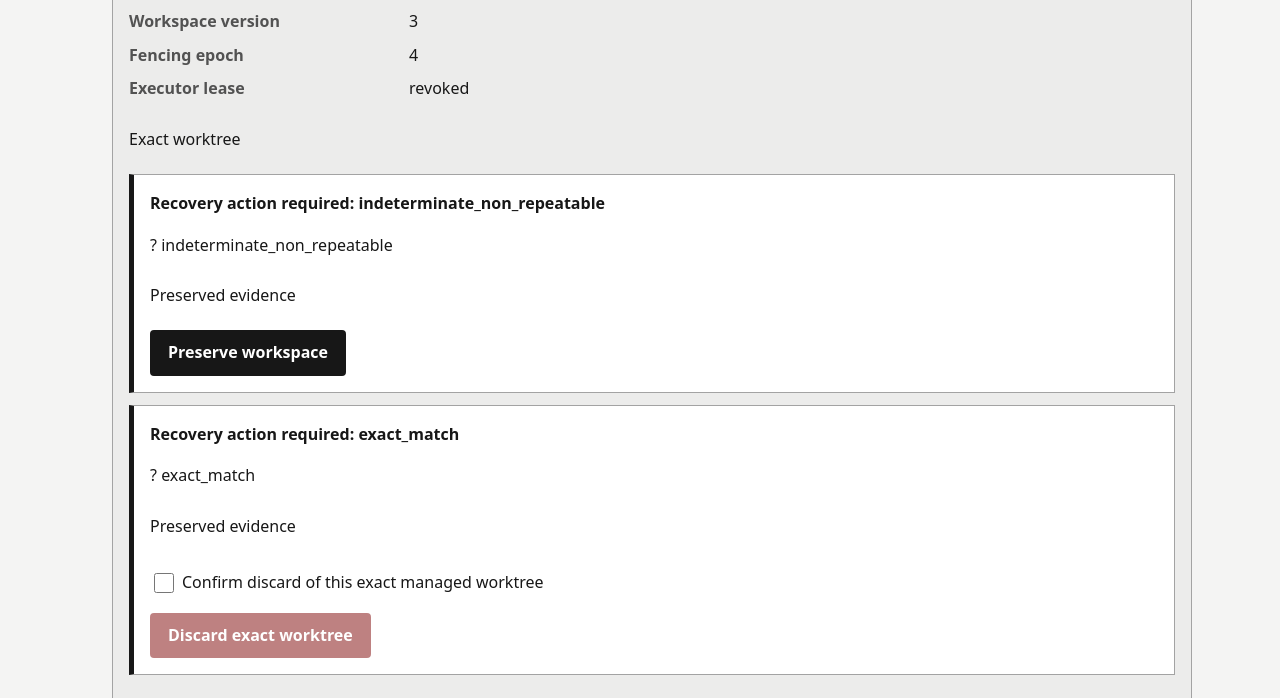
WorkspaceScreen › does not let an older poll overwrite a completed mutation
(page scrolled)
Click the button "Preserve workspace".
click(248, 353)  # box [150,330,346,376]
(page scrolled)
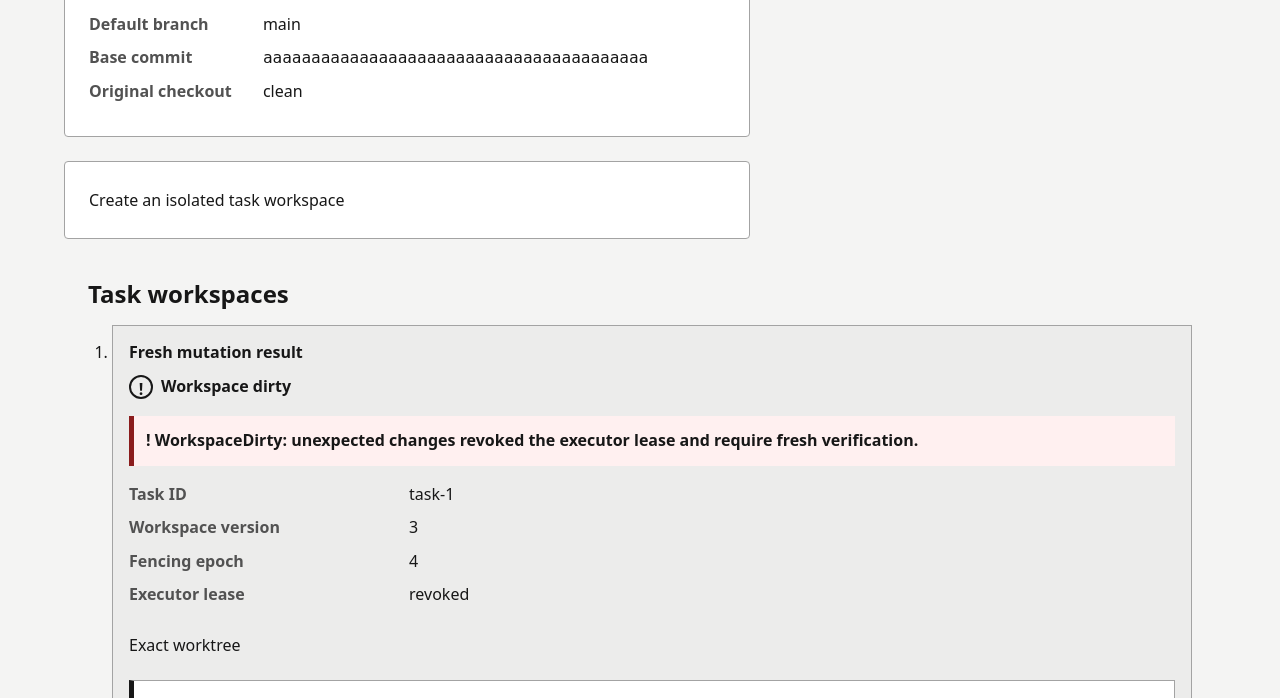
expect the heading "Fresh mutation result" is shown: met, box [129,341,303,363]
